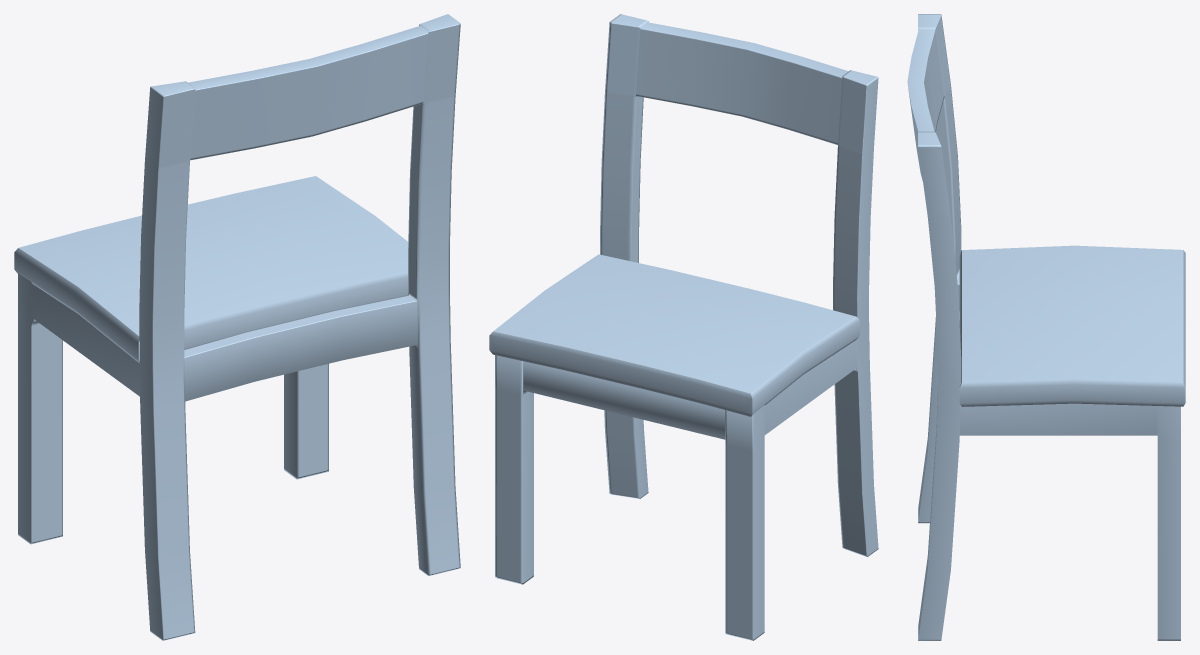
Rendered from WoodChair.FBX.
3 views of the same model, side by side, from view 1: azimuth 30°, elevation 25°; view 2: azimuth 150°, elevation 25°; view 3: azimuth 270°, elevation 25° (orthographic). The views are drawn at different scales.
Parts seen in each view (by area): view 1: WoodChair; view 2: WoodChair; view 3: WoodChair.
Part boxes in pixels (left/top/right/bottom): WoodChair: left=14, top=14, right=460, bottom=640; WoodChair: left=489, top=14, right=878, bottom=640; WoodChair: left=907, top=14, right=1185, bottom=640.
Bounding box in the file's own units: 164 × 144 × 282.
